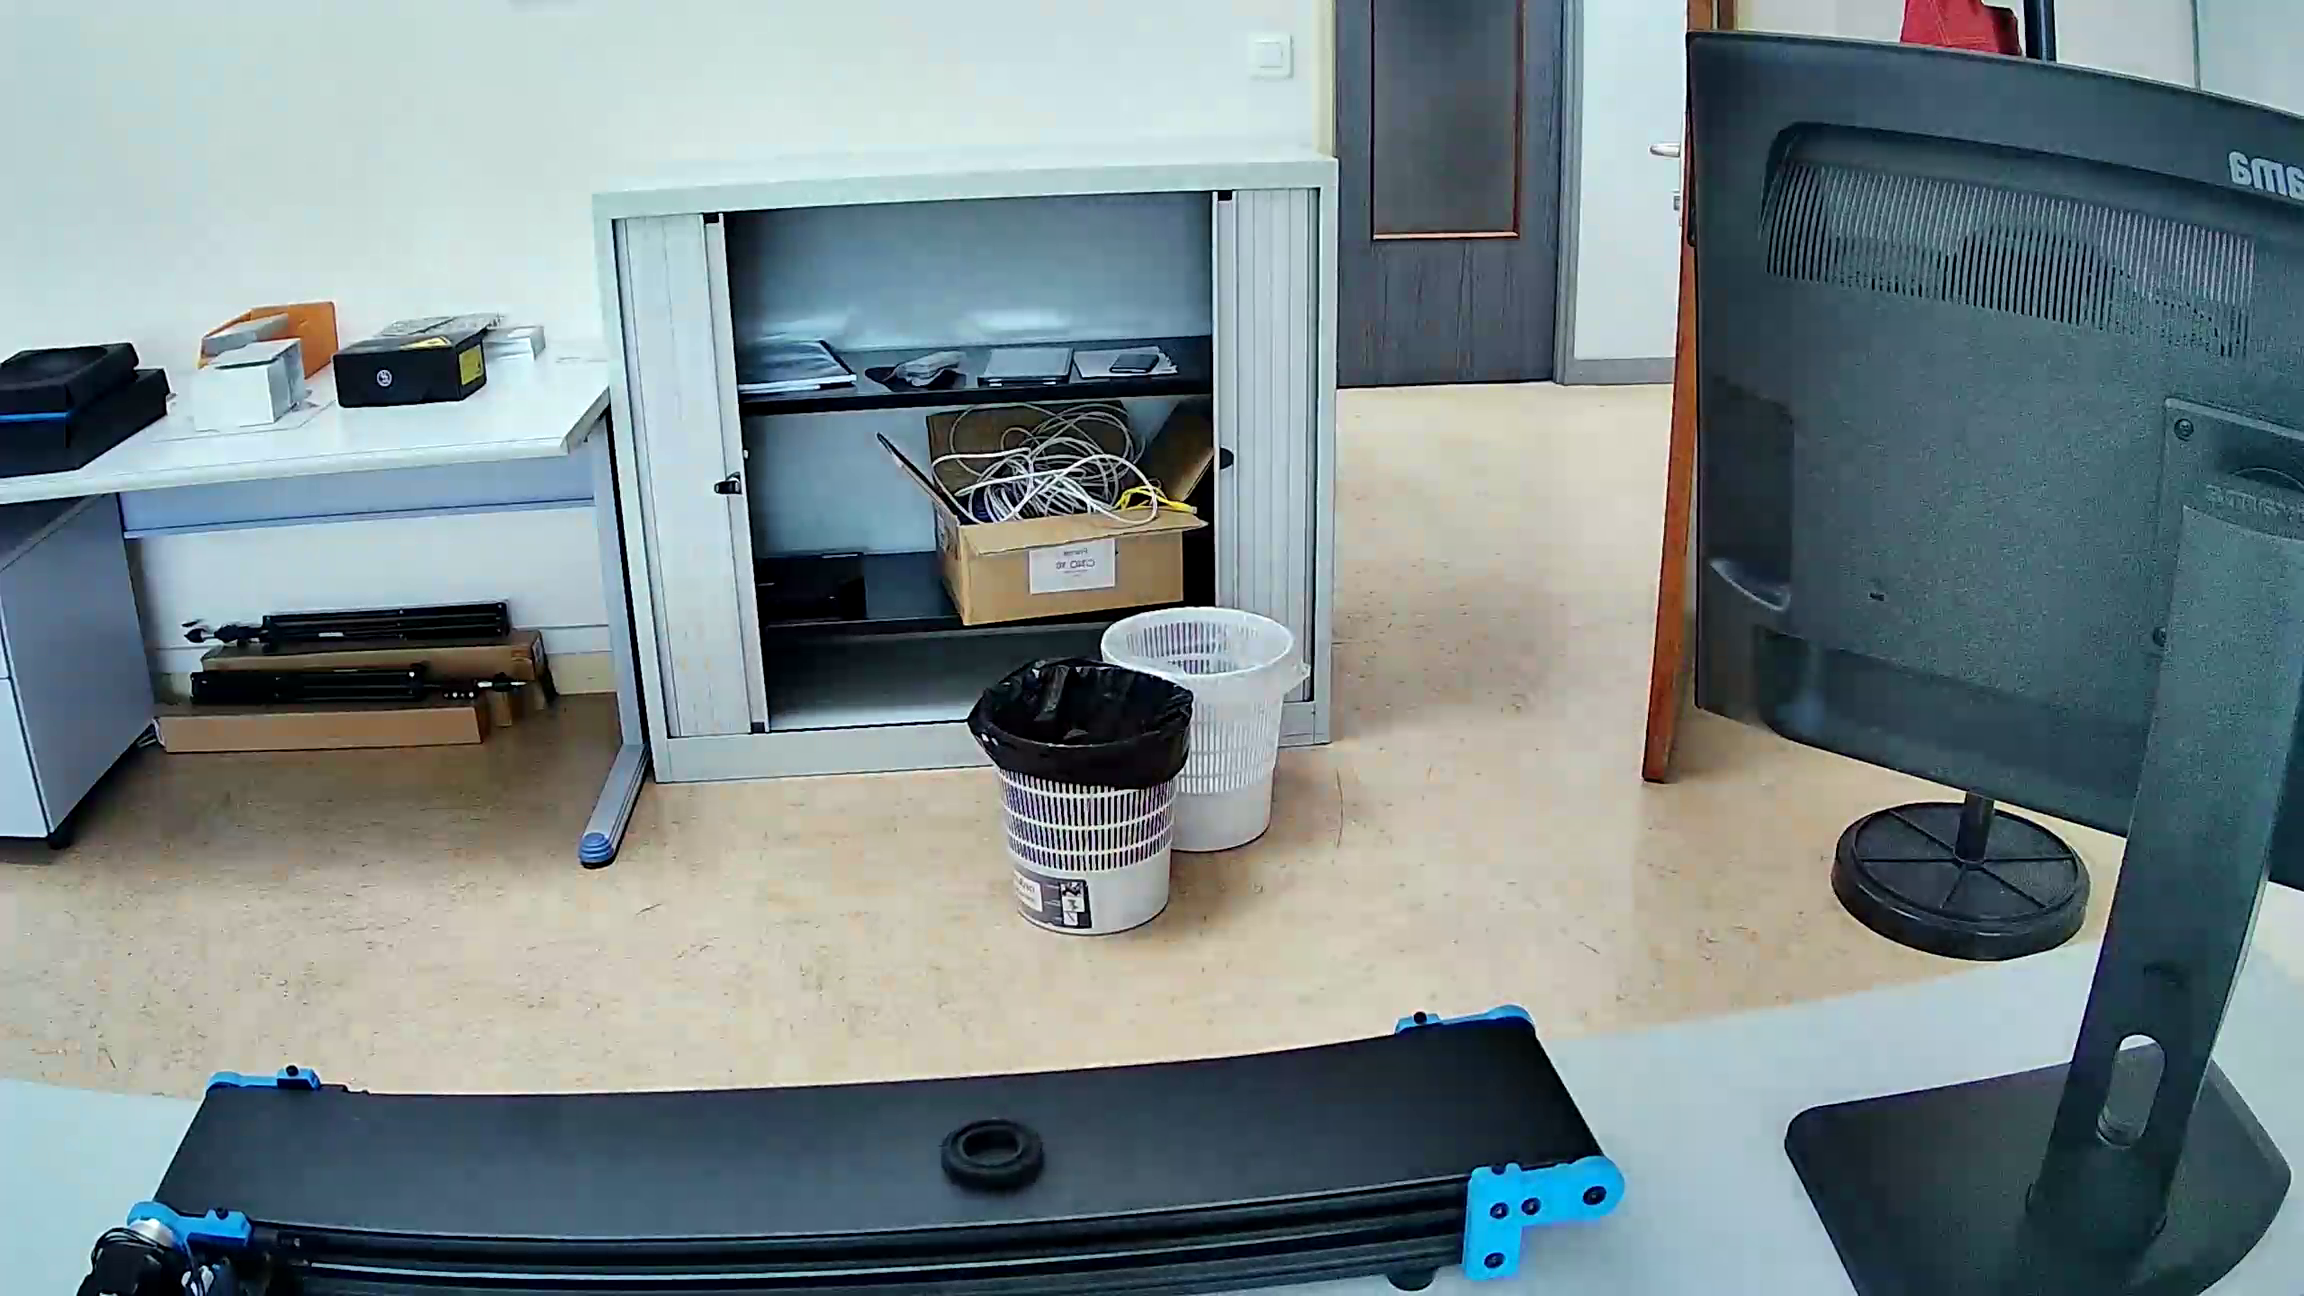good: (934, 1119, 1048, 1190)
